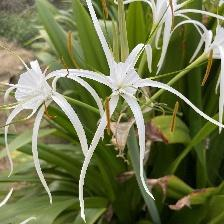spider lily: (47, 1, 224, 224)
